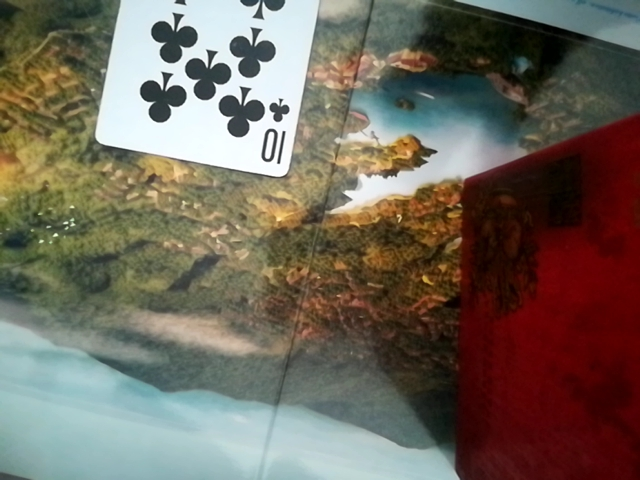mh 10: (94, 0, 333, 181)
